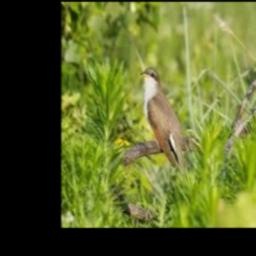Cuckoo: (140, 67, 187, 176)
